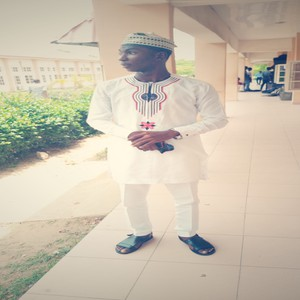Fulokoja_male_student: (92, 38, 209, 255)
